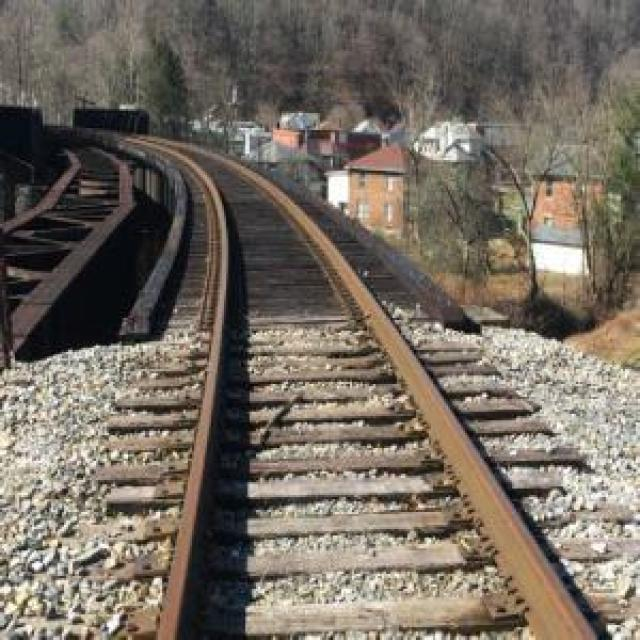rail: (10, 0, 639, 638)
